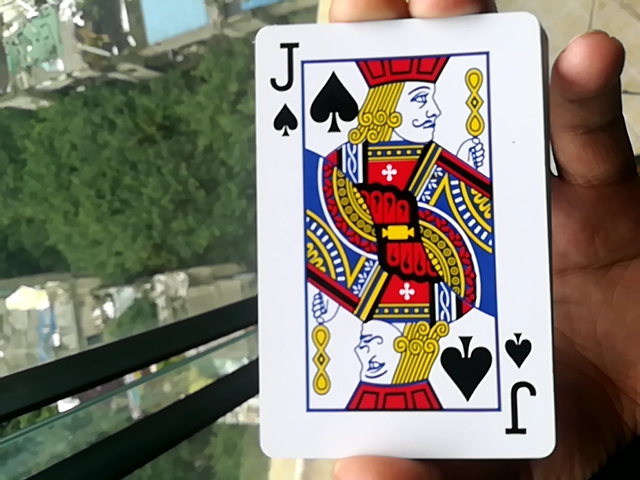ht j: (242, 24, 562, 452)
